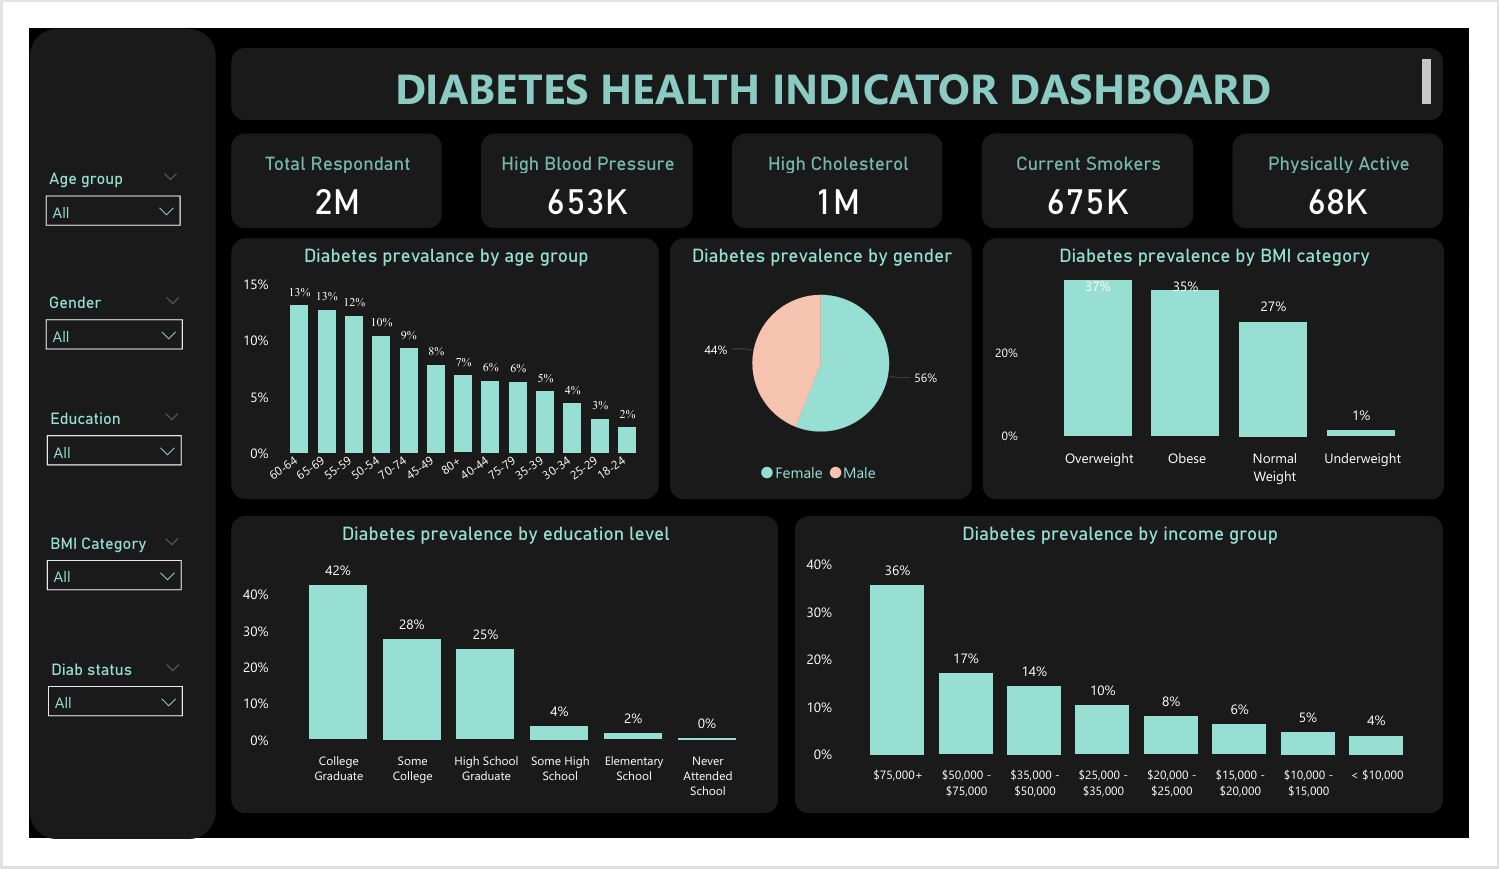

Layout of this report page (visuals, bound fields, positions):
{"tool":"powerbi","page":{"name":"Page 1","canvas":[1280,720],"ordinal":0},"visuals":[{"type":"columnChart","title":"Diabetes prevalance by age group","fields":{"Category":["diabetes_012_health_indicators_BRFSS2015.Age group"],"Y":["CountNonNull(diabetes_012_health_indicators_BRFSS2015.Diabetes status)"]},"box":[178.5,185.8,380.4,232.6],"z":0},{"type":"pieChart","title":"Diabetes prevalence by gender","fields":{"Y":["CountNonNull(diabetes_012_health_indicators_BRFSS2015.Diabetes status)"],"Series":["diabetes_012_health_indicators_BRFSS2015.Sex cat"]},"box":[569.2,185.8,267.8,232.6],"z":1000},{"type":"clusteredColumnChart","title":"Diabetes prevalence by BMI category","fields":{"Category":["diabetes_012_health_indicators_BRFSS2015.BMI status "],"Y":["CountNonNull(diabetes_012_health_indicators_BRFSS2015.Diabetes status)"]},"box":[847.2,185.8,409.7,232.6],"z":2000},{"type":"columnChart","title":"Diabetes prevalence by education level","fields":{"Y":["CountNonNull(diabetes_012_health_indicators_BRFSS2015.Diabetes status)"],"Category":["diabetes_012_health_indicators_BRFSS2015.Education status"]},"box":[179,433.3,485.9,263.3],"z":3000},{"type":"clusteredColumnChart","title":"Diabetes prevalence by income group","fields":{"Y":["CountNonNull(diabetes_012_health_indicators_BRFSS2015.Diabetes status)"],"Category":["diabetes_012_health_indicators_BRFSS2015.Income group"]},"box":[680,433.3,576.2,263.3],"z":4000},{"type":"shape","box":[0,0,165.3,719.9],"z":6000},{"type":"slicer","fields":{"Values":["diabetes_012_health_indicators_BRFSS2015.Age group"]},"box":[3.2,118.5,141.9,67.3],"z":7000},{"type":"slicer","fields":{"Values":["diabetes_012_health_indicators_BRFSS2015.Sex cat"]},"box":[3.9,229.7,141.9,58.5],"z":8000},{"type":"slicer","fields":{"Values":["diabetes_012_health_indicators_BRFSS2015.Education status"]},"box":[3.9,332.1,141.9,67.3],"z":9000},{"type":"slicer","fields":{"Values":["diabetes_012_health_indicators_BRFSS2015.BMI status "]},"box":[3.9,443.3,141.9,67.3],"z":10000},{"type":"slicer","fields":{"Values":["diabetes_012_health_indicators_BRFSS2015.Diabetes status"]},"box":[5.4,554.6,141.9,67.3],"z":11000},{"type":"card","title":"Total Respondant","fields":{"Values":["diabetes_012_health_indicators_BRFSS2015.Total respondant"]},"box":[178.6,92.7,187.2,84.3],"z":12000,"group":"g1"},{"type":"card","title":"High Blood Pressure","fields":{"Values":["diabetes_012_health_indicators_BRFSS2015.High BP Cases"]},"box":[401.1,92.7,187.2,84.3],"z":13000,"group":"g1"},{"type":"card","title":"High Cholesterol ","fields":{"Values":["diabetes_012_health_indicators_BRFSS2015.High cholestrol"]},"box":[623.6,92.7,187.2,84.3],"z":14000,"group":"g1"},{"type":"card","title":"Current Smokers","fields":{"Values":["diabetes_012_health_indicators_BRFSS2015.Total Smokers"]},"box":[846.1,92.7,187.2,84.3],"z":15000,"group":"g1"},{"type":"card","title":"Physically Active","fields":{"Values":["diabetes_012_health_indicators_BRFSS2015.Physically Active"]},"box":[1068.6,92.7,187.2,84.3],"z":16000,"group":"g1"},{"type":"textbox","box":[179,16.5,1077.2,64.7],"z":16003},{"type":"group","id":"g1","title":"Group 1","box":[178.6,92.7,1077.2,84.3],"z":16004}]}

Visuals, with their boxes in screenshot pixels (x1, y1, x2, y2), scaled from the page's 1280x720 canvas onto the 1499x869 screenshot:
"Diabetes prevalance by age group" columnChart: [209,224,655,505]
"Diabetes prevalence by gender" pieChart: [667,224,980,505]
"Diabetes prevalence by BMI category" clusteredColumnChart: [992,224,1472,505]
"Diabetes prevalence by education level" columnChart: [210,523,779,841]
"Diabetes prevalence by income group" clusteredColumnChart: [796,523,1471,841]
shape: [0,0,194,868]
slicer - diabetes_012_health_indicators_BRFSS2015.Age group: [4,143,170,224]
slicer - diabetes_012_health_indicators_BRFSS2015.Sex cat: [5,277,171,348]
slicer - diabetes_012_health_indicators_BRFSS2015.Education status: [5,401,171,482]
slicer - diabetes_012_health_indicators_BRFSS2015.BMI status : [5,535,171,616]
slicer - diabetes_012_health_indicators_BRFSS2015.Diabetes status: [6,669,173,751]
"Total Respondant" card: [209,112,428,214]
"High Blood Pressure" card: [470,112,689,214]
"High Cholesterol " card: [730,112,950,214]
"Current Smokers" card: [991,112,1210,214]
"Physically Active" card: [1251,112,1471,214]
textbox: [210,20,1471,98]
"Group 1" group: [209,112,1471,214]
